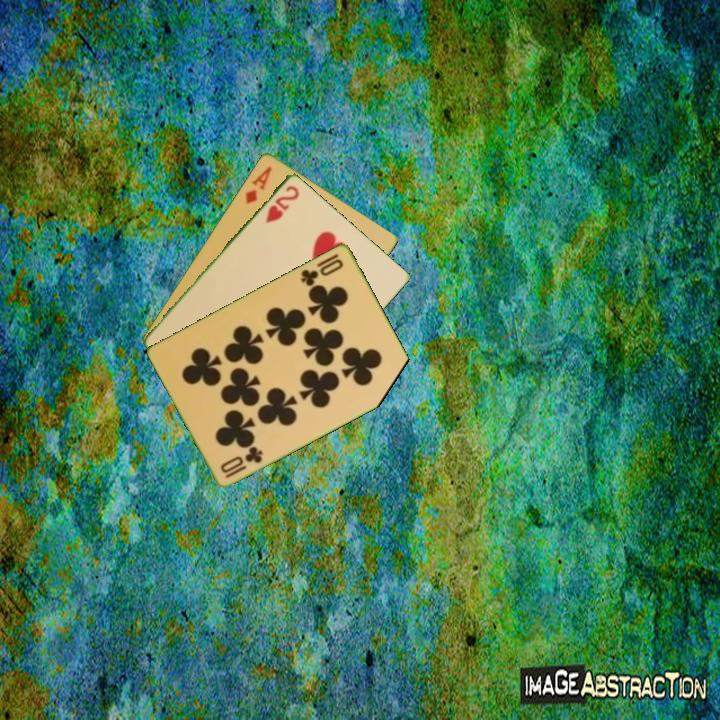10c: (217, 443, 266, 481), (297, 255, 346, 289)
2h: (262, 181, 302, 226)
Ad: (241, 162, 275, 206)
